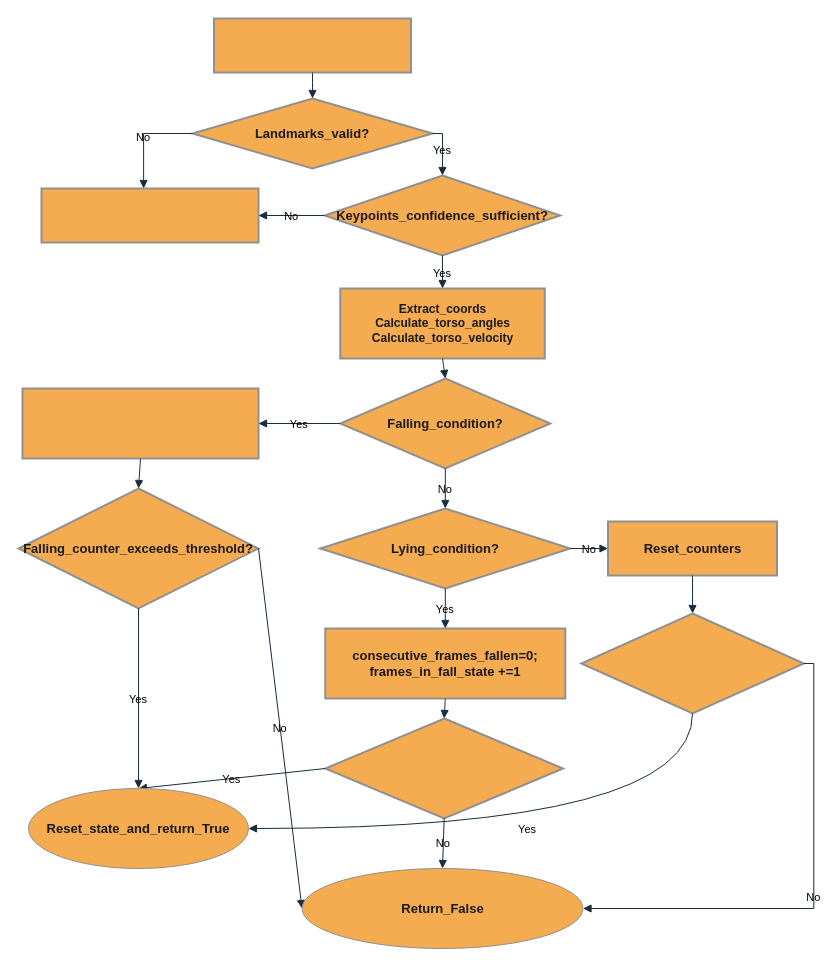
Image size: 839x966. Some labels were removed from this diagram. Here are the shapes that lost their labels. From the top down, the centre of each, then its label:
the point at 312,45: Receive_landmarks
the point at 149,215: Reset_state_and_return_False
the point at 140,423: consecutive_frames_fallen +=1; frames_in_fall_state =0
the point at 692,663: counter_exceeds_threshold?
the point at 444,768: Lying_counter_exceeds_threshold?
